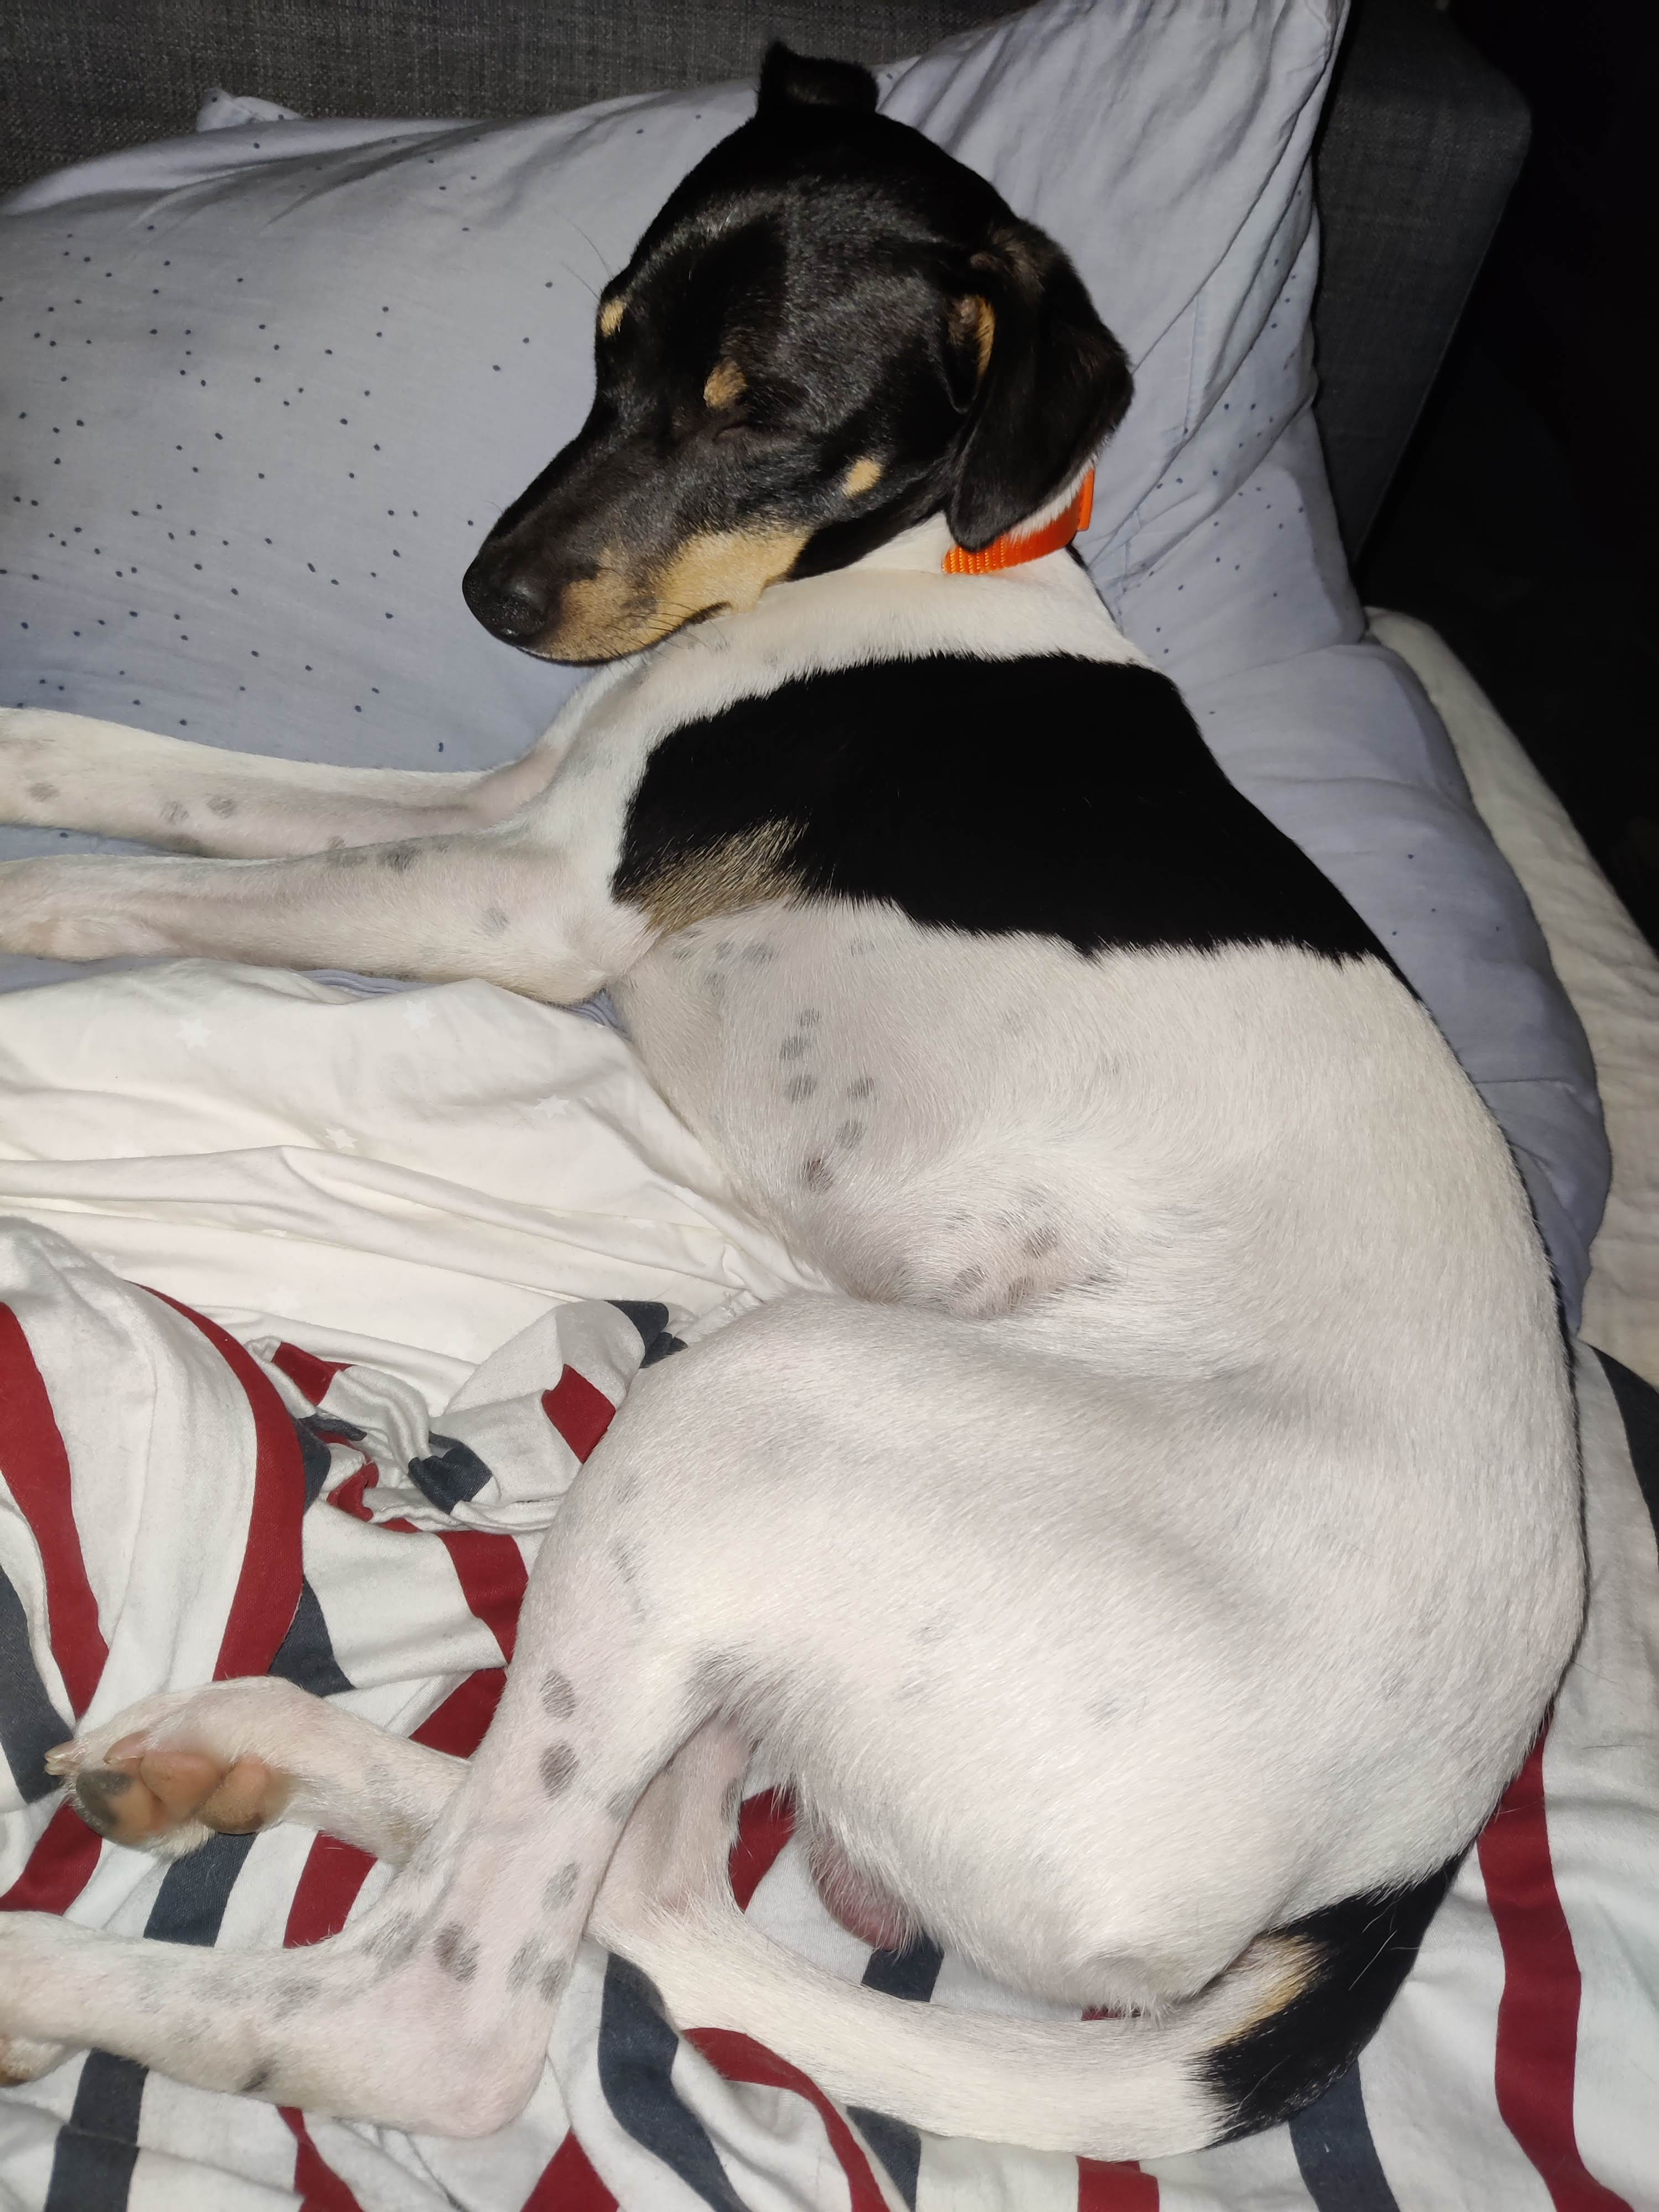Dog: (0, 37, 1595, 2165)
